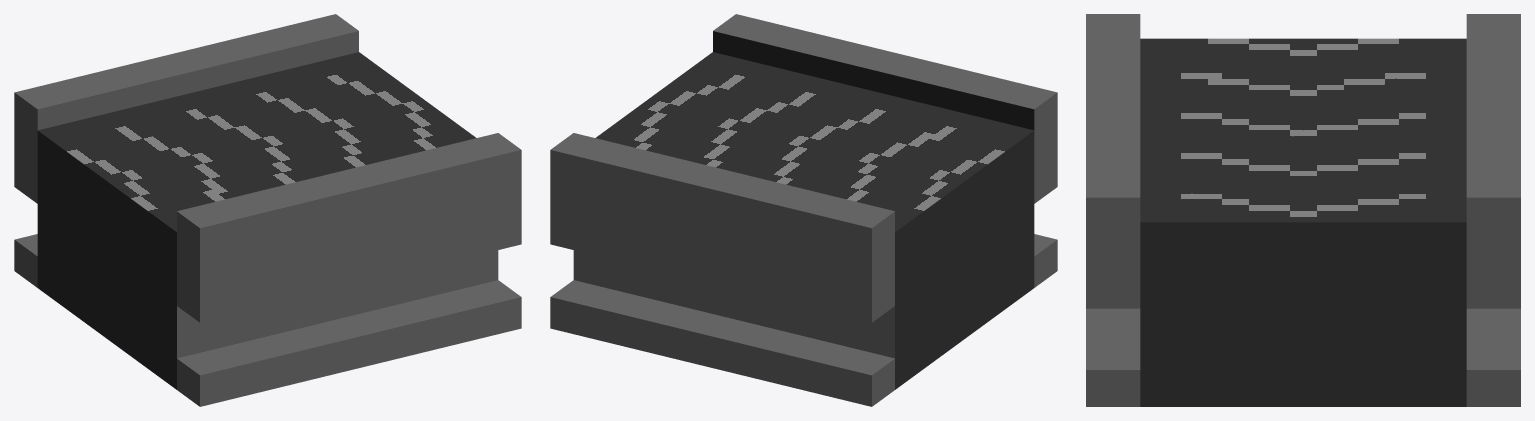
Rendered from conveyer.gltf.
The picture shows the model from 3 angles, left to right: view 1: azimuth 30°, elevation 25°; view 2: azimuth 150°, elevation 25°; view 3: azimuth 270°, elevation 25°; orthographic projection. The views are drawn at different scales.
Visible parts, largest first — view 1: cube (×5); view 2: cube (×5); view 3: cube (×5).
Boxes of the visible parts, x1,y1,x2,y2 form: cube (×5): [14, 14, 521, 406]; cube (×5): [550, 14, 1057, 406]; cube (×5): [1086, 14, 1520, 406].
Bounding box in the file's own units: 1 × 0.5312 × 1.
2 materials, 2 textured.
